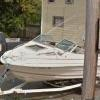Boat: (1, 28, 100, 94)
